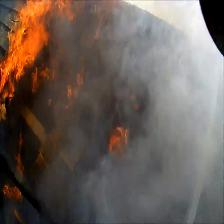fire: (12, 6, 42, 58)
smoke: (145, 57, 223, 224), (108, 7, 199, 55)
